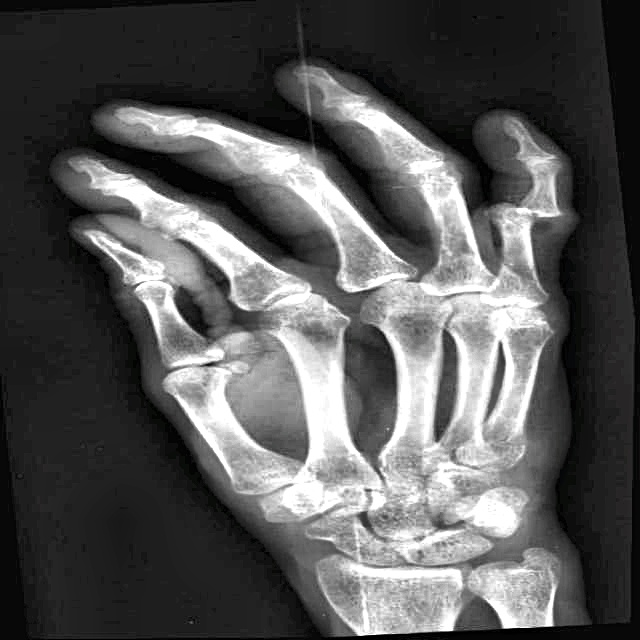Transverse: (476, 189, 586, 234)
